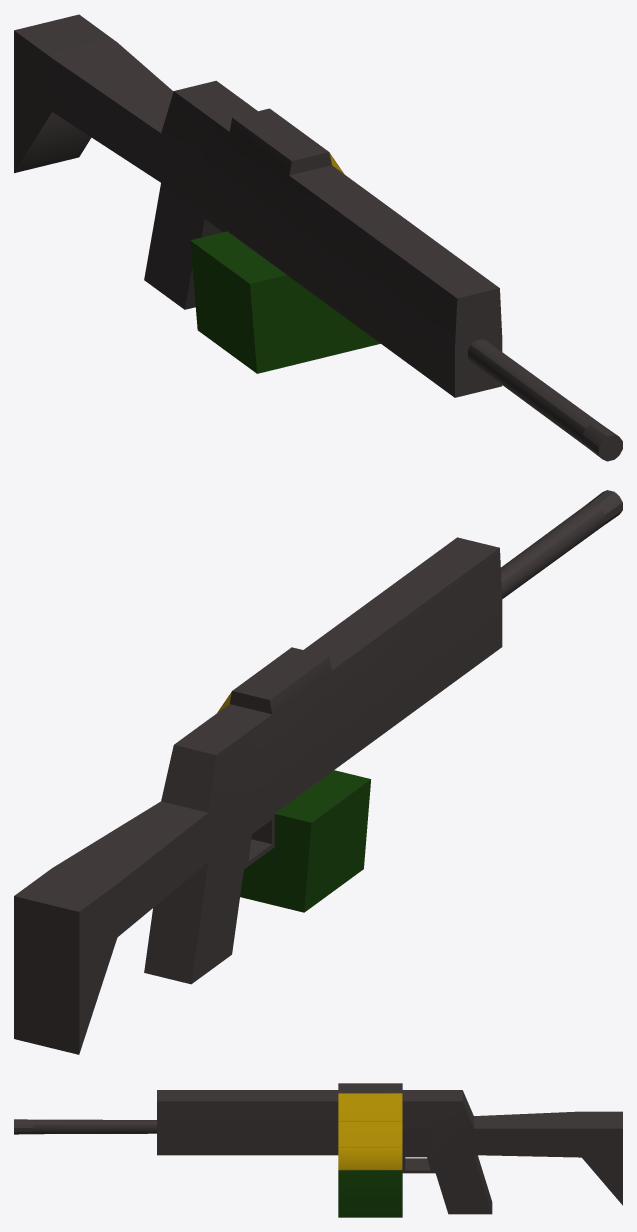
File: LMG.fbx
3 renders of one model, top to bottom at view 1: azimuth 30°, elevation 25°; view 2: azimuth 150°, elevation 25°; view 3: azimuth 270°, elevation 25°, orthographic. The views are drawn at different scales.
Parts seen in each view (by area): view 1: LMG; view 2: LMG; view 3: LMG.
Part boxes in pixels (x1,y1,x2,y2): LMG: (14,14,622,461); LMG: (14,490,622,1054); LMG: (14,1083,622,1217).
Size of the model in its own units: 45.04 by 67.82 by 312.
Materials: 1 (1 with a texture image).
